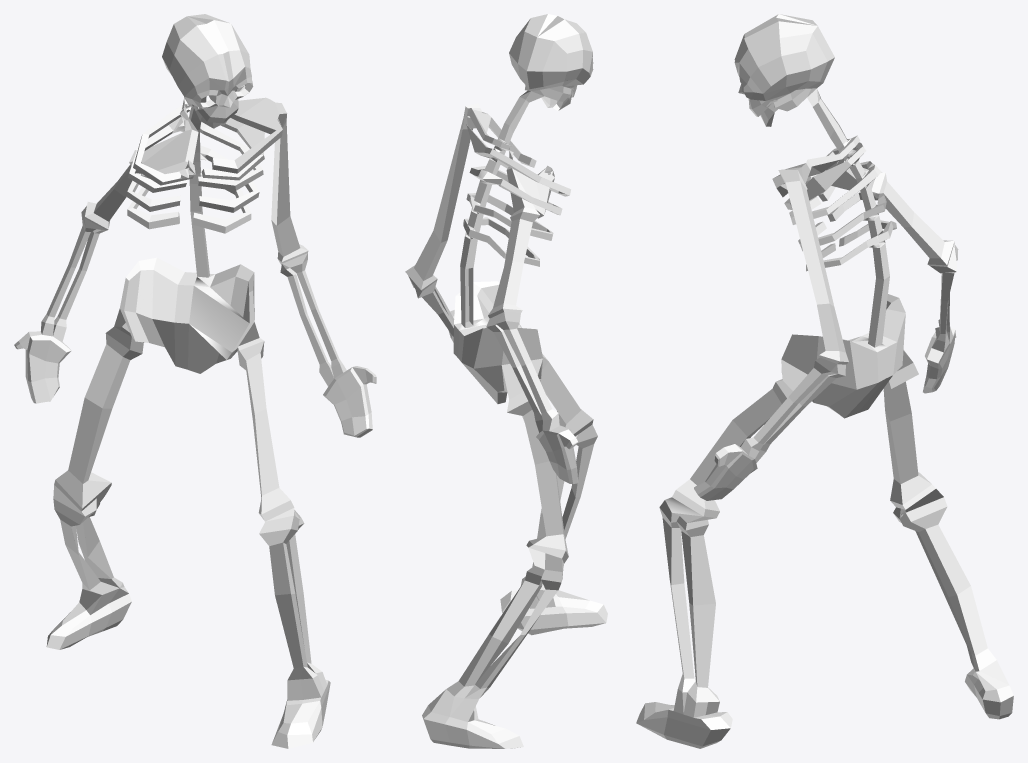
File: SkeletonIdle(105).obj
The picture shows the model from 3 angles, left to right: view 1: azimuth 30°, elevation 25°; view 2: azimuth 150°, elevation 25°; view 3: azimuth 270°, elevation 25°; orthographic projection. The views are drawn at different scales.
Parts seen in each view (by area): view 1: Object002; view 2: Object002; view 3: Object002.
Part boxes in pixels (<box>): Object002: <box>14,14,376,748</box>; Object002: <box>405,14,607,748</box>; Object002: <box>636,14,1013,748</box>.
Size of the model in its own units: 426 by 1124 by 554.
